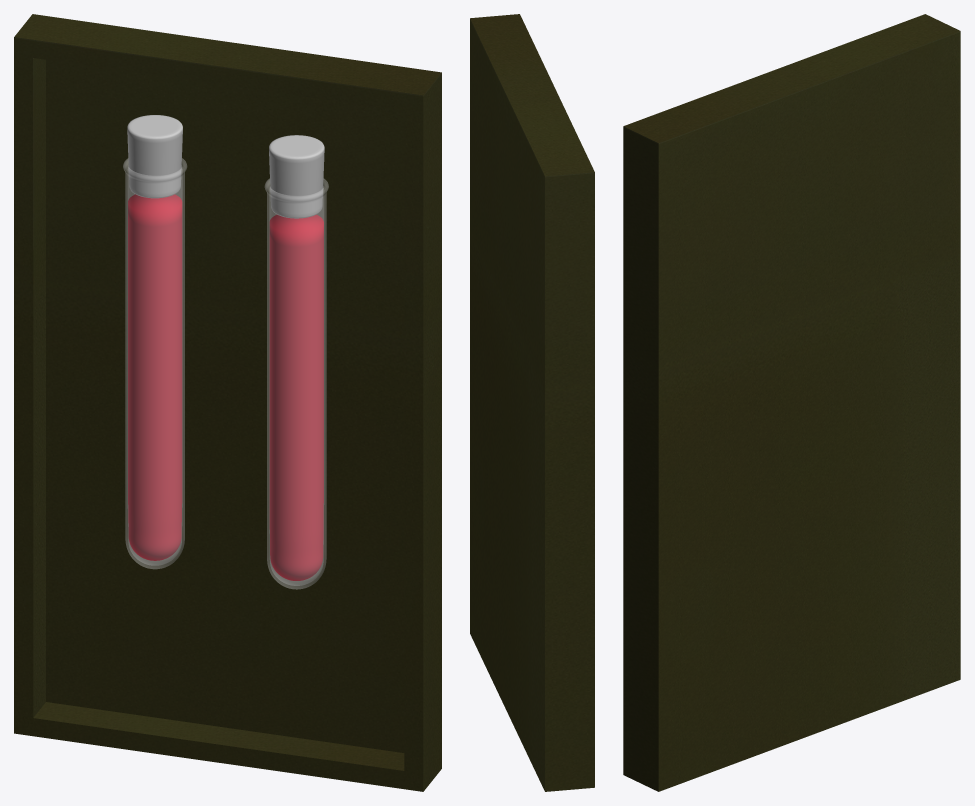
Rendered from FR_Side.fbx.
3 views of the same model, side by side, from view 1: azimuth 30°, elevation 25°; view 2: azimuth 150°, elevation 25°; view 3: azimuth 270°, elevation 25° (orthographic). The views are drawn at different scales.
Visible parts, largest first — view 1: Side, test_tube01.002, test_tube01.001, test_tube01.004, test_tube01.003; view 2: Side; view 3: Side.
Part boxes in pixels (x1=…): Side: x1=14, y1=14, x2=441, y2=791; test_tube01.002: x1=123, y1=115, x2=186, y2=568; test_tube01.001: x1=265, y1=135, x2=328, y2=589; test_tube01.004: x1=269, y1=214, x2=323, y2=580; test_tube01.003: x1=128, y1=194, x2=182, y2=560; Side: x1=470, y1=14, x2=594, y2=791; Side: x1=623, y1=14, x2=960, y2=791.
Bounding box in the file's own units: 19.75 × 46.21 × 21.79.
